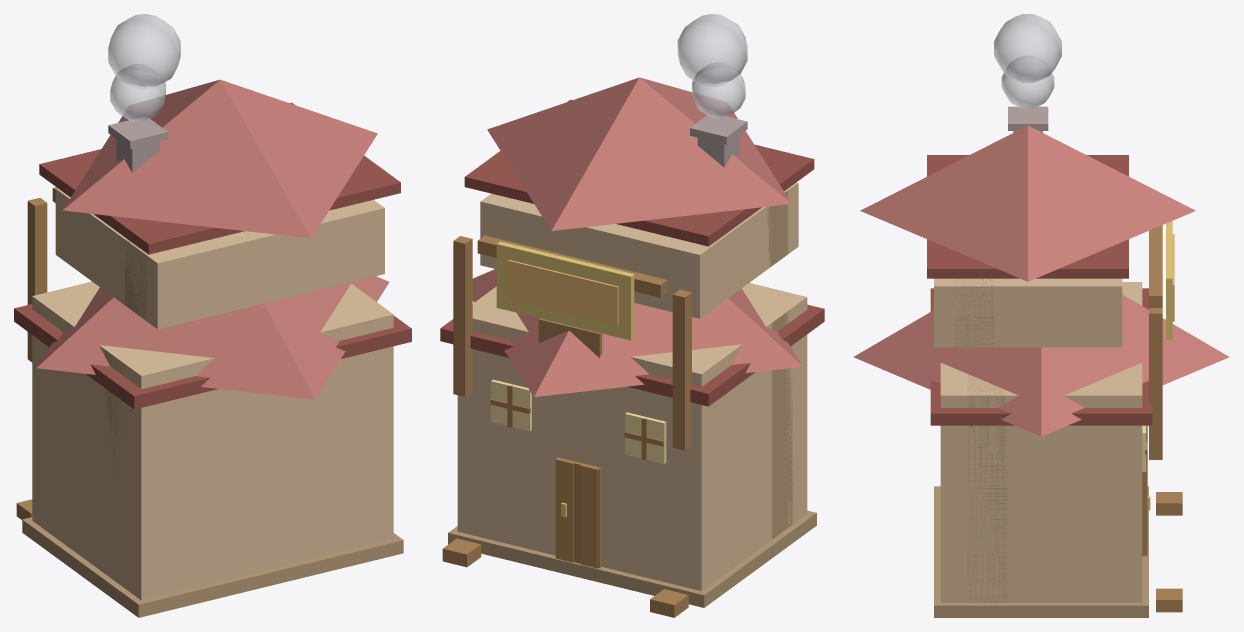
Rendered from tavern.glb.
3 views of the same model, side by side, from view 1: azimuth 30°, elevation 25°; view 2: azimuth 150°, elevation 25°; view 3: azimuth 270°, elevation 25° (orthographic). The views are drawn at different scales.
Visible parts, largest first — view 1: tavern_root; view 2: tavern_root; view 3: tavern_root.
Boxes of the visible parts, <box> form: tavern_root: <box>14,14,411,617</box>; tavern_root: <box>440,14,824,617</box>; tavern_root: <box>853,14,1229,617</box>.
Size of the model in its own units: 3.37 by 5 by 3.37.
